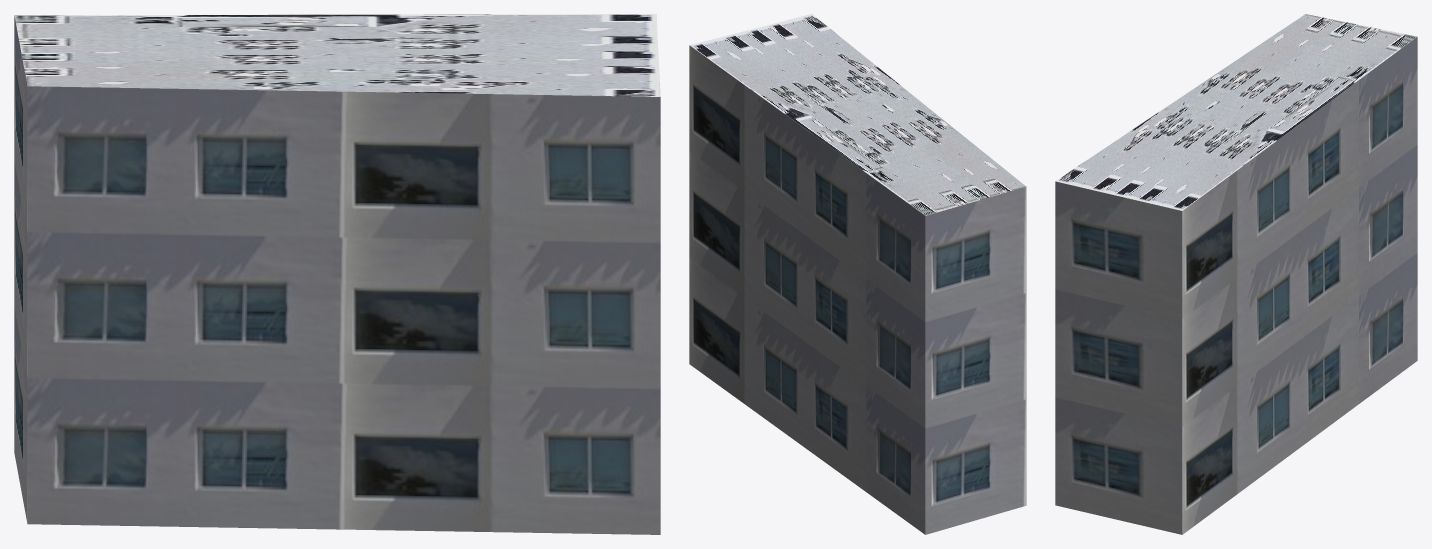
Rendered from ResTex__2860.fbx.
3 renders of one model, left to right at view 1: azimuth 30°, elevation 25°; view 2: azimuth 150°, elevation 25°; view 3: azimuth 270°, elevation 25°, orthographic. The views are drawn at different scales.
Visible parts, largest first — view 1: CityEngineMaterial_10_m, CityEngineMaterial_m; view 2: CityEngineMaterial_10_m, CityEngineMaterial_m; view 3: CityEngineMaterial_10_m, CityEngineMaterial_m.
Part boxes in pixels (box(x1,y1,x2,y2)): CityEngineMaterial_10_m: box(14, 16, 660, 534); CityEngineMaterial_m: box(14, 14, 660, 96); CityEngineMaterial_10_m: box(689, 45, 1026, 534); CityEngineMaterial_m: box(690, 14, 1025, 215); CityEngineMaterial_10_m: box(1055, 37, 1417, 534); CityEngineMaterial_m: box(1055, 14, 1417, 210).
Bounding box in the file's own units: 11.74 × 9 × 9.13.
Materials: 2 (2 with a texture image).
